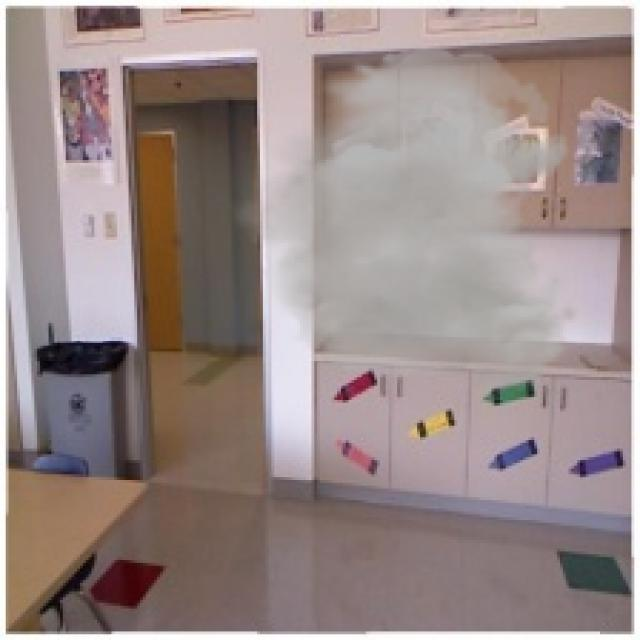Smoke: (225, 49, 580, 392)
